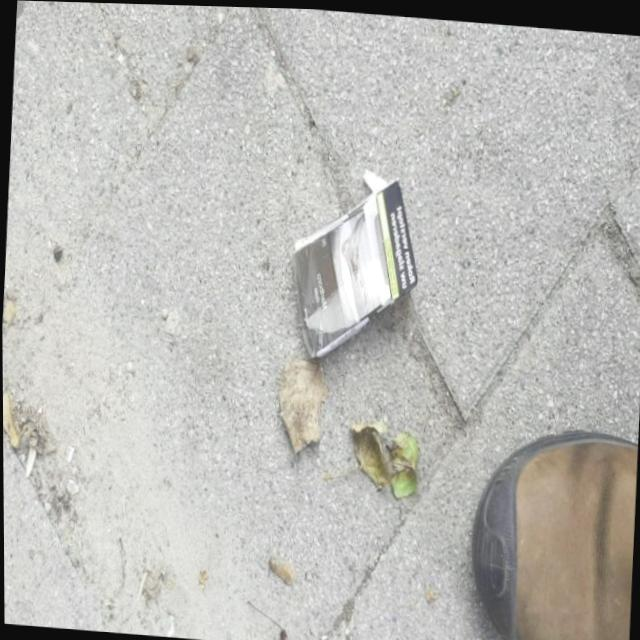Paper: (281, 157, 423, 367)
